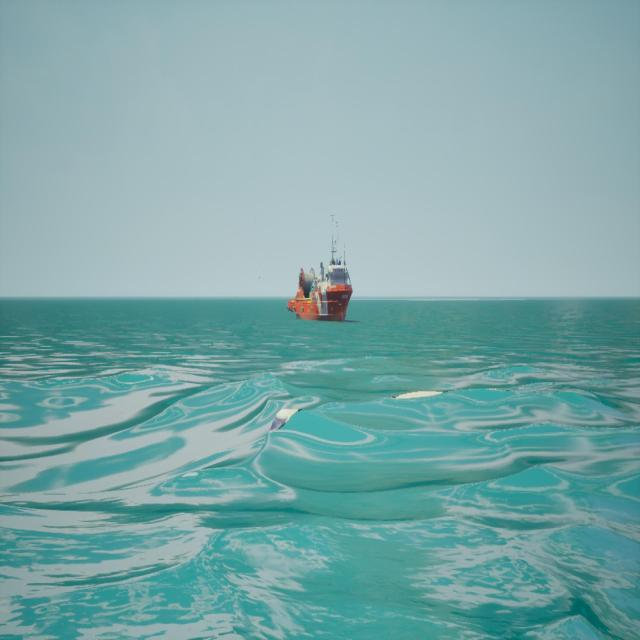tug boat: (291, 216, 353, 324)
